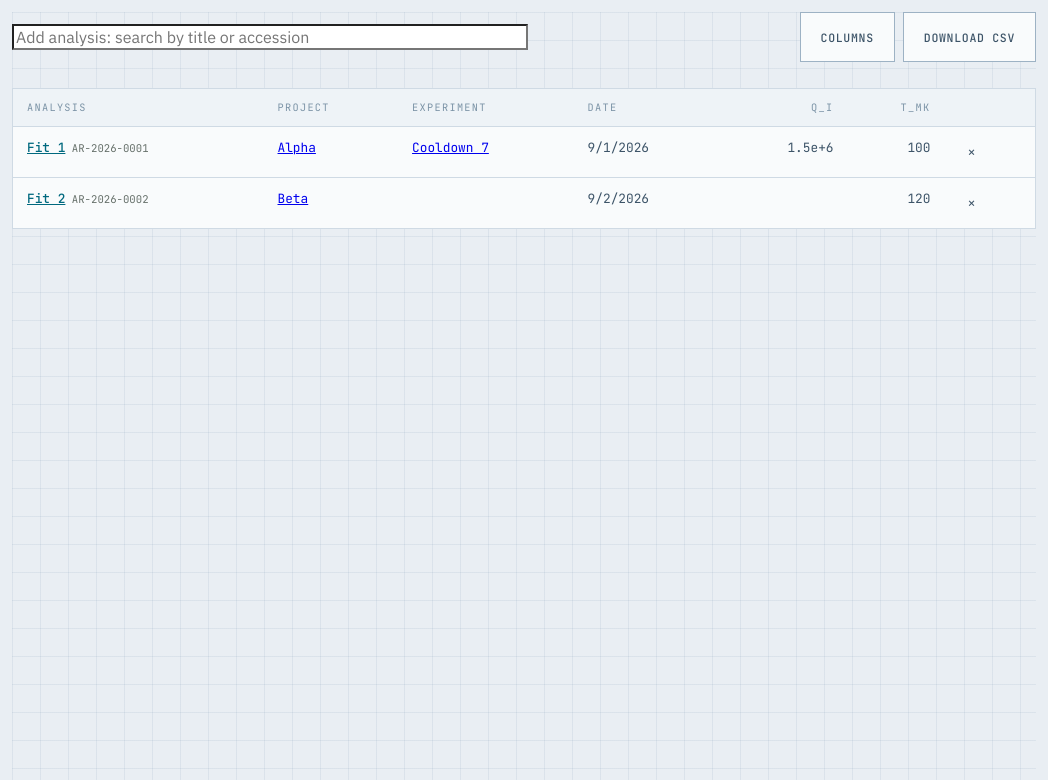
Test: ResultSummaryPage › will not save an empty column list
Expected: the table named "Result summary table" is shown, [13, 89, 1035, 228]
Click the button "Columns" at (847, 37), box [800, 12, 895, 62]
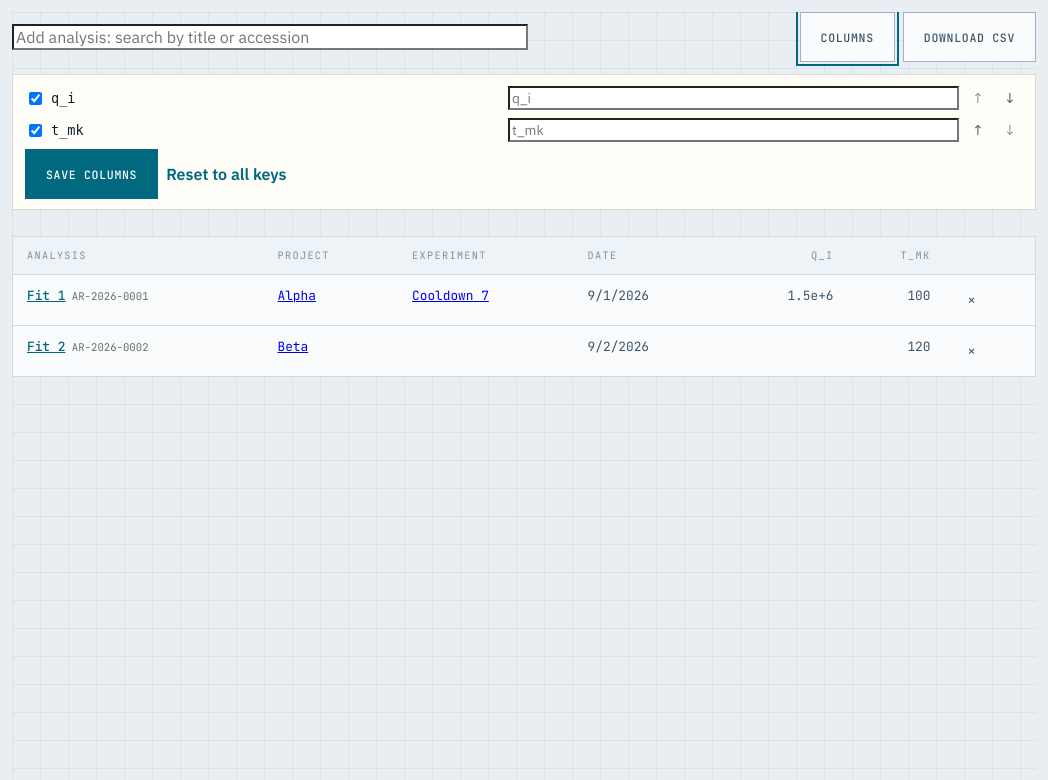
Click the checkbox named "Show q_i" at (36, 98), box [29, 92, 42, 104]
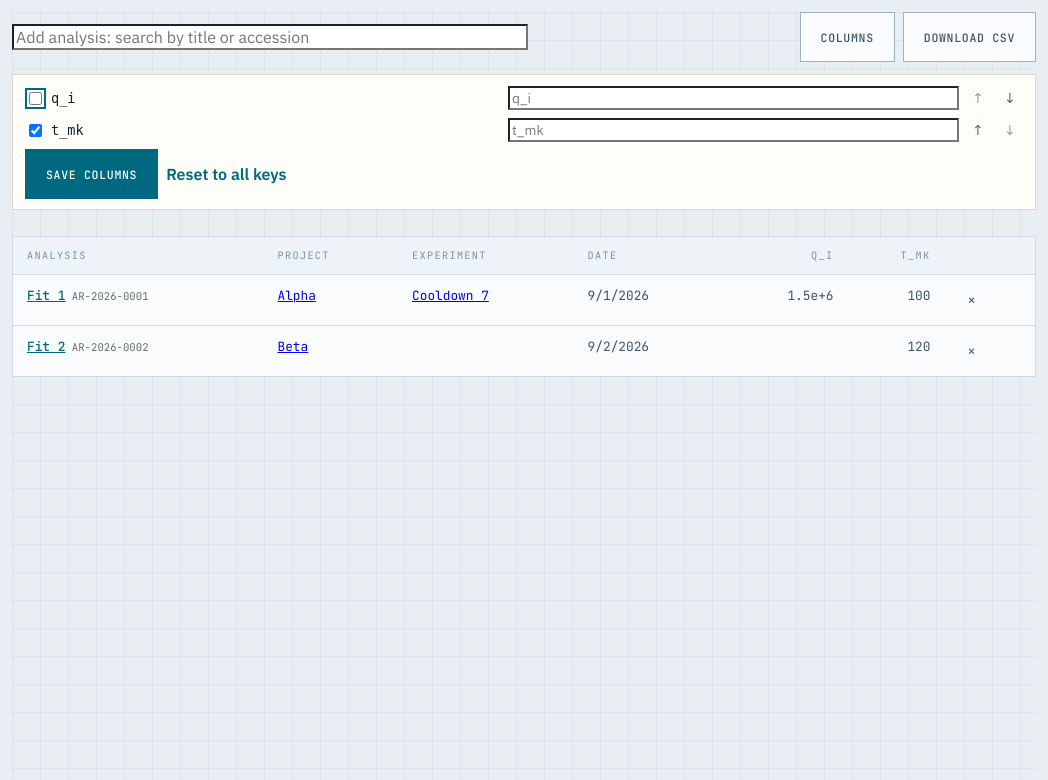
Click the checkbox named "Show t_mk" at (36, 130), box [29, 124, 42, 136]
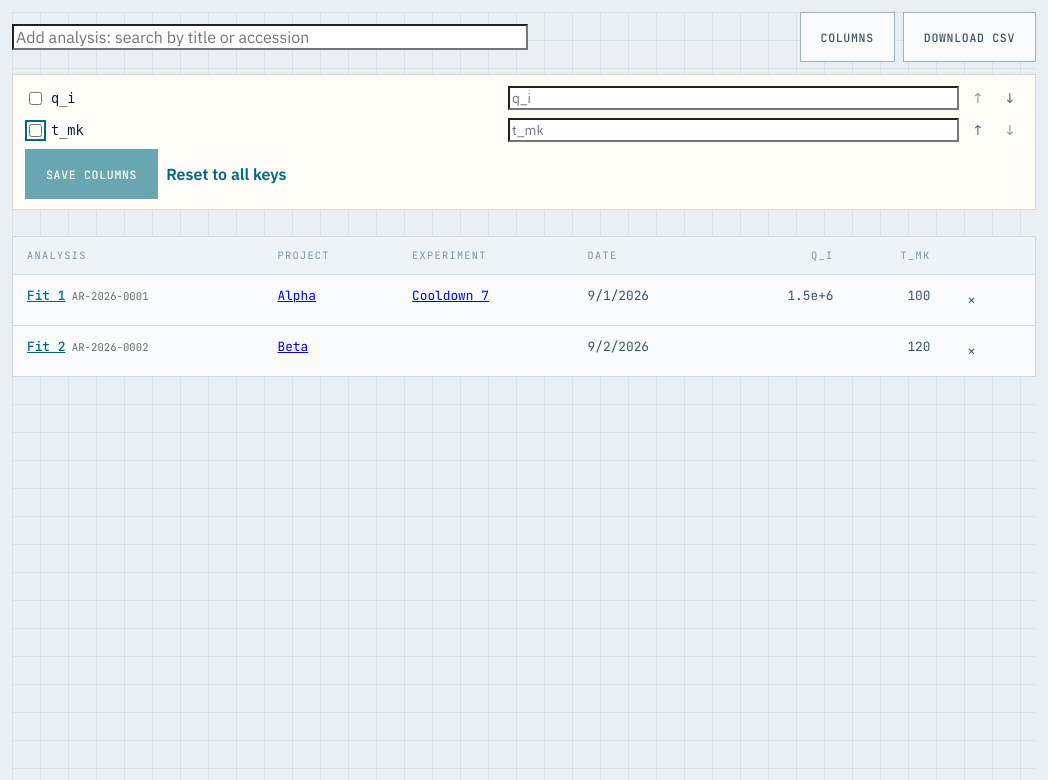
Now the button "Save columns" is disabled, box [25, 149, 158, 199]
